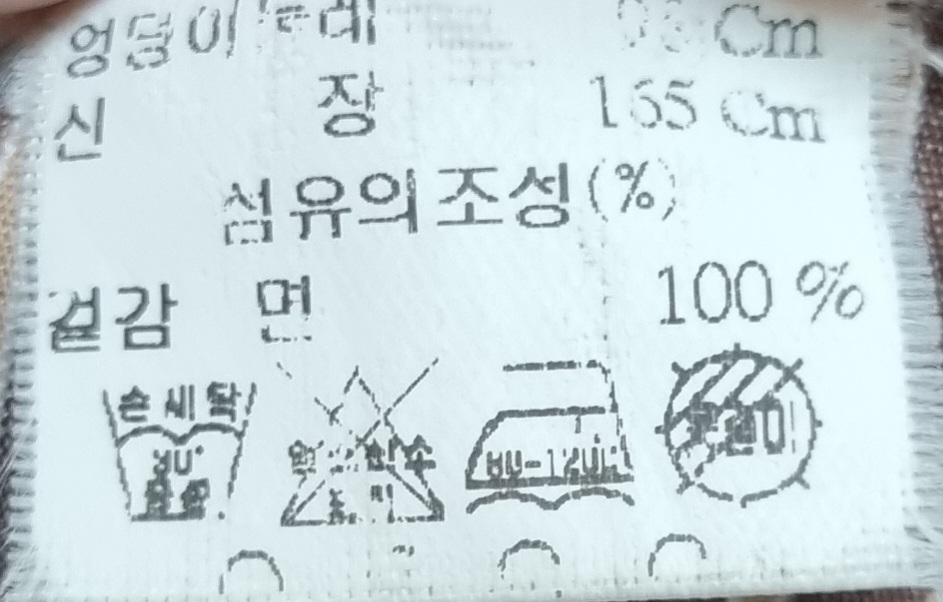KR_hand_wash_30_neutral: (92, 359, 266, 536)
KR_hang_dry_in_shade: (660, 334, 822, 507)
KR_iron_low_temp_with_cloth: (467, 353, 638, 514)
KR_no_bleach: (274, 352, 453, 529)
